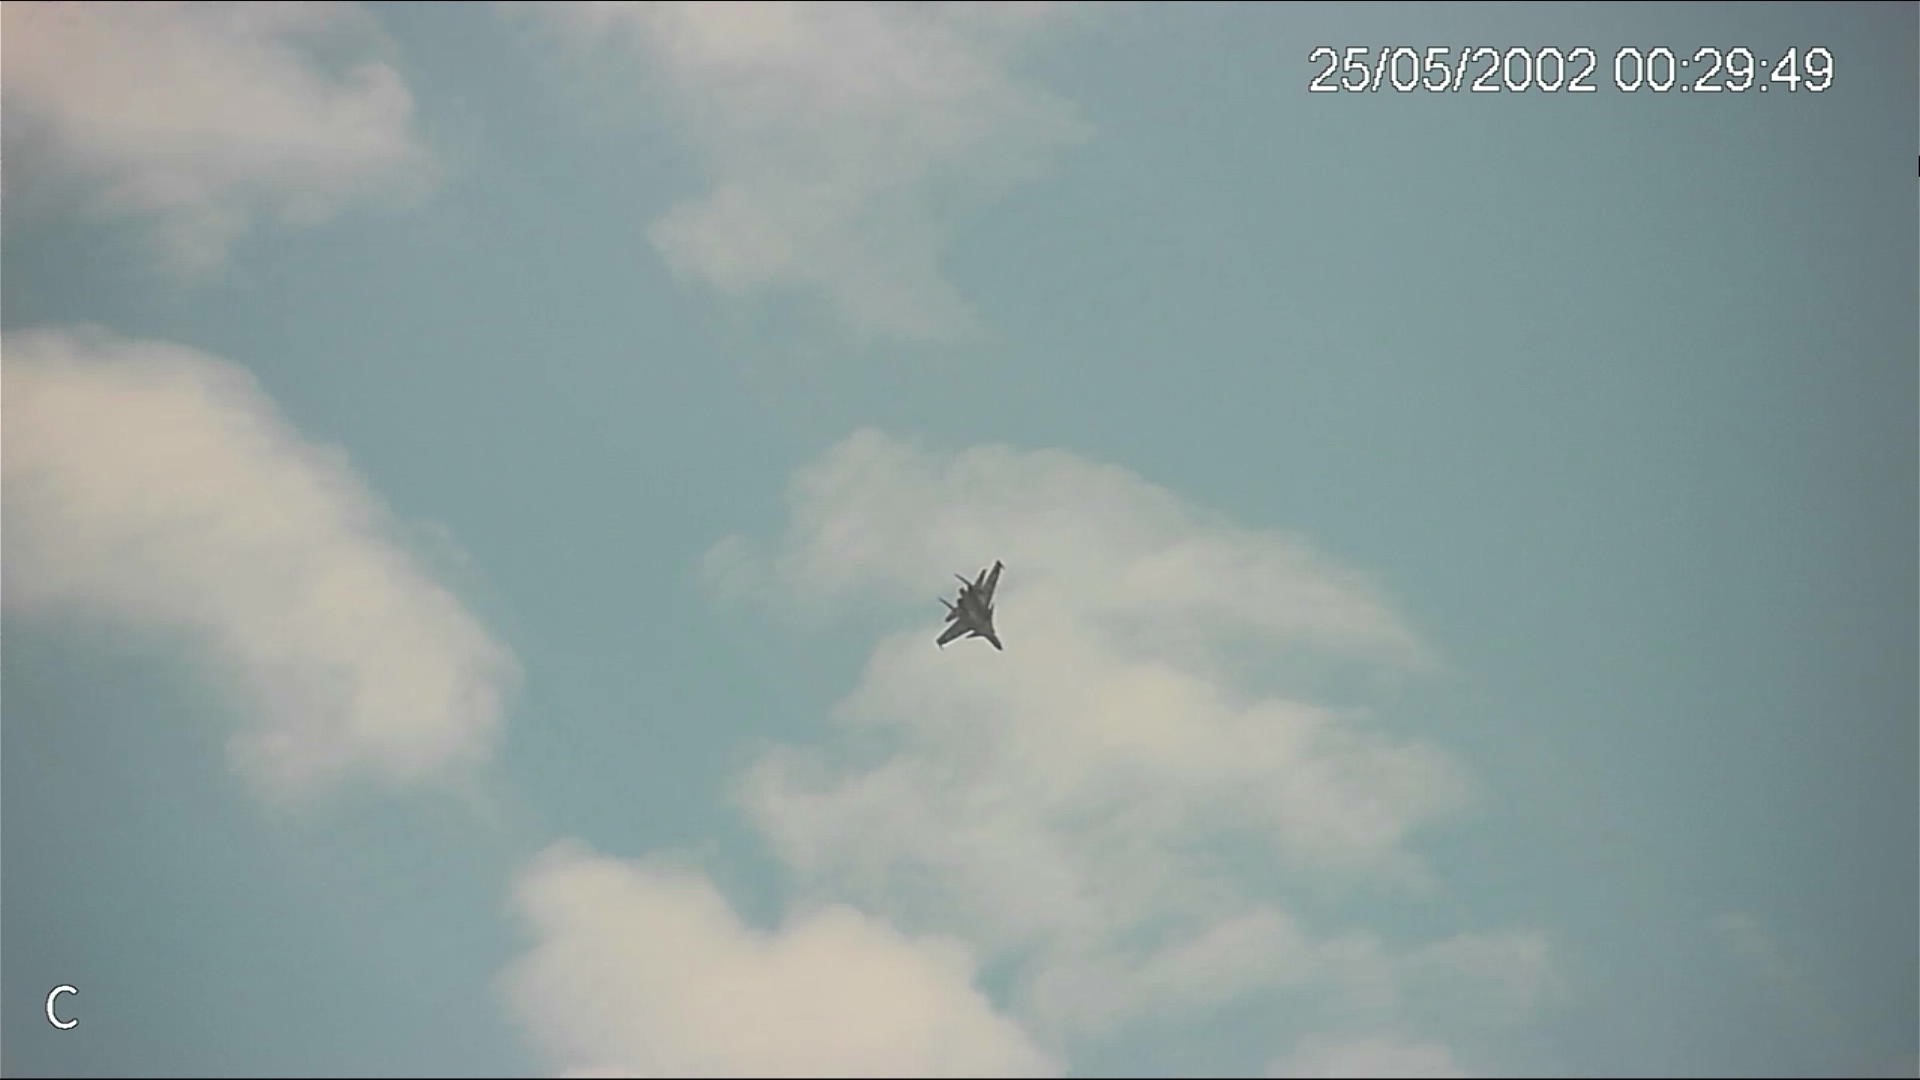SU_30: (930, 559, 1011, 653)
